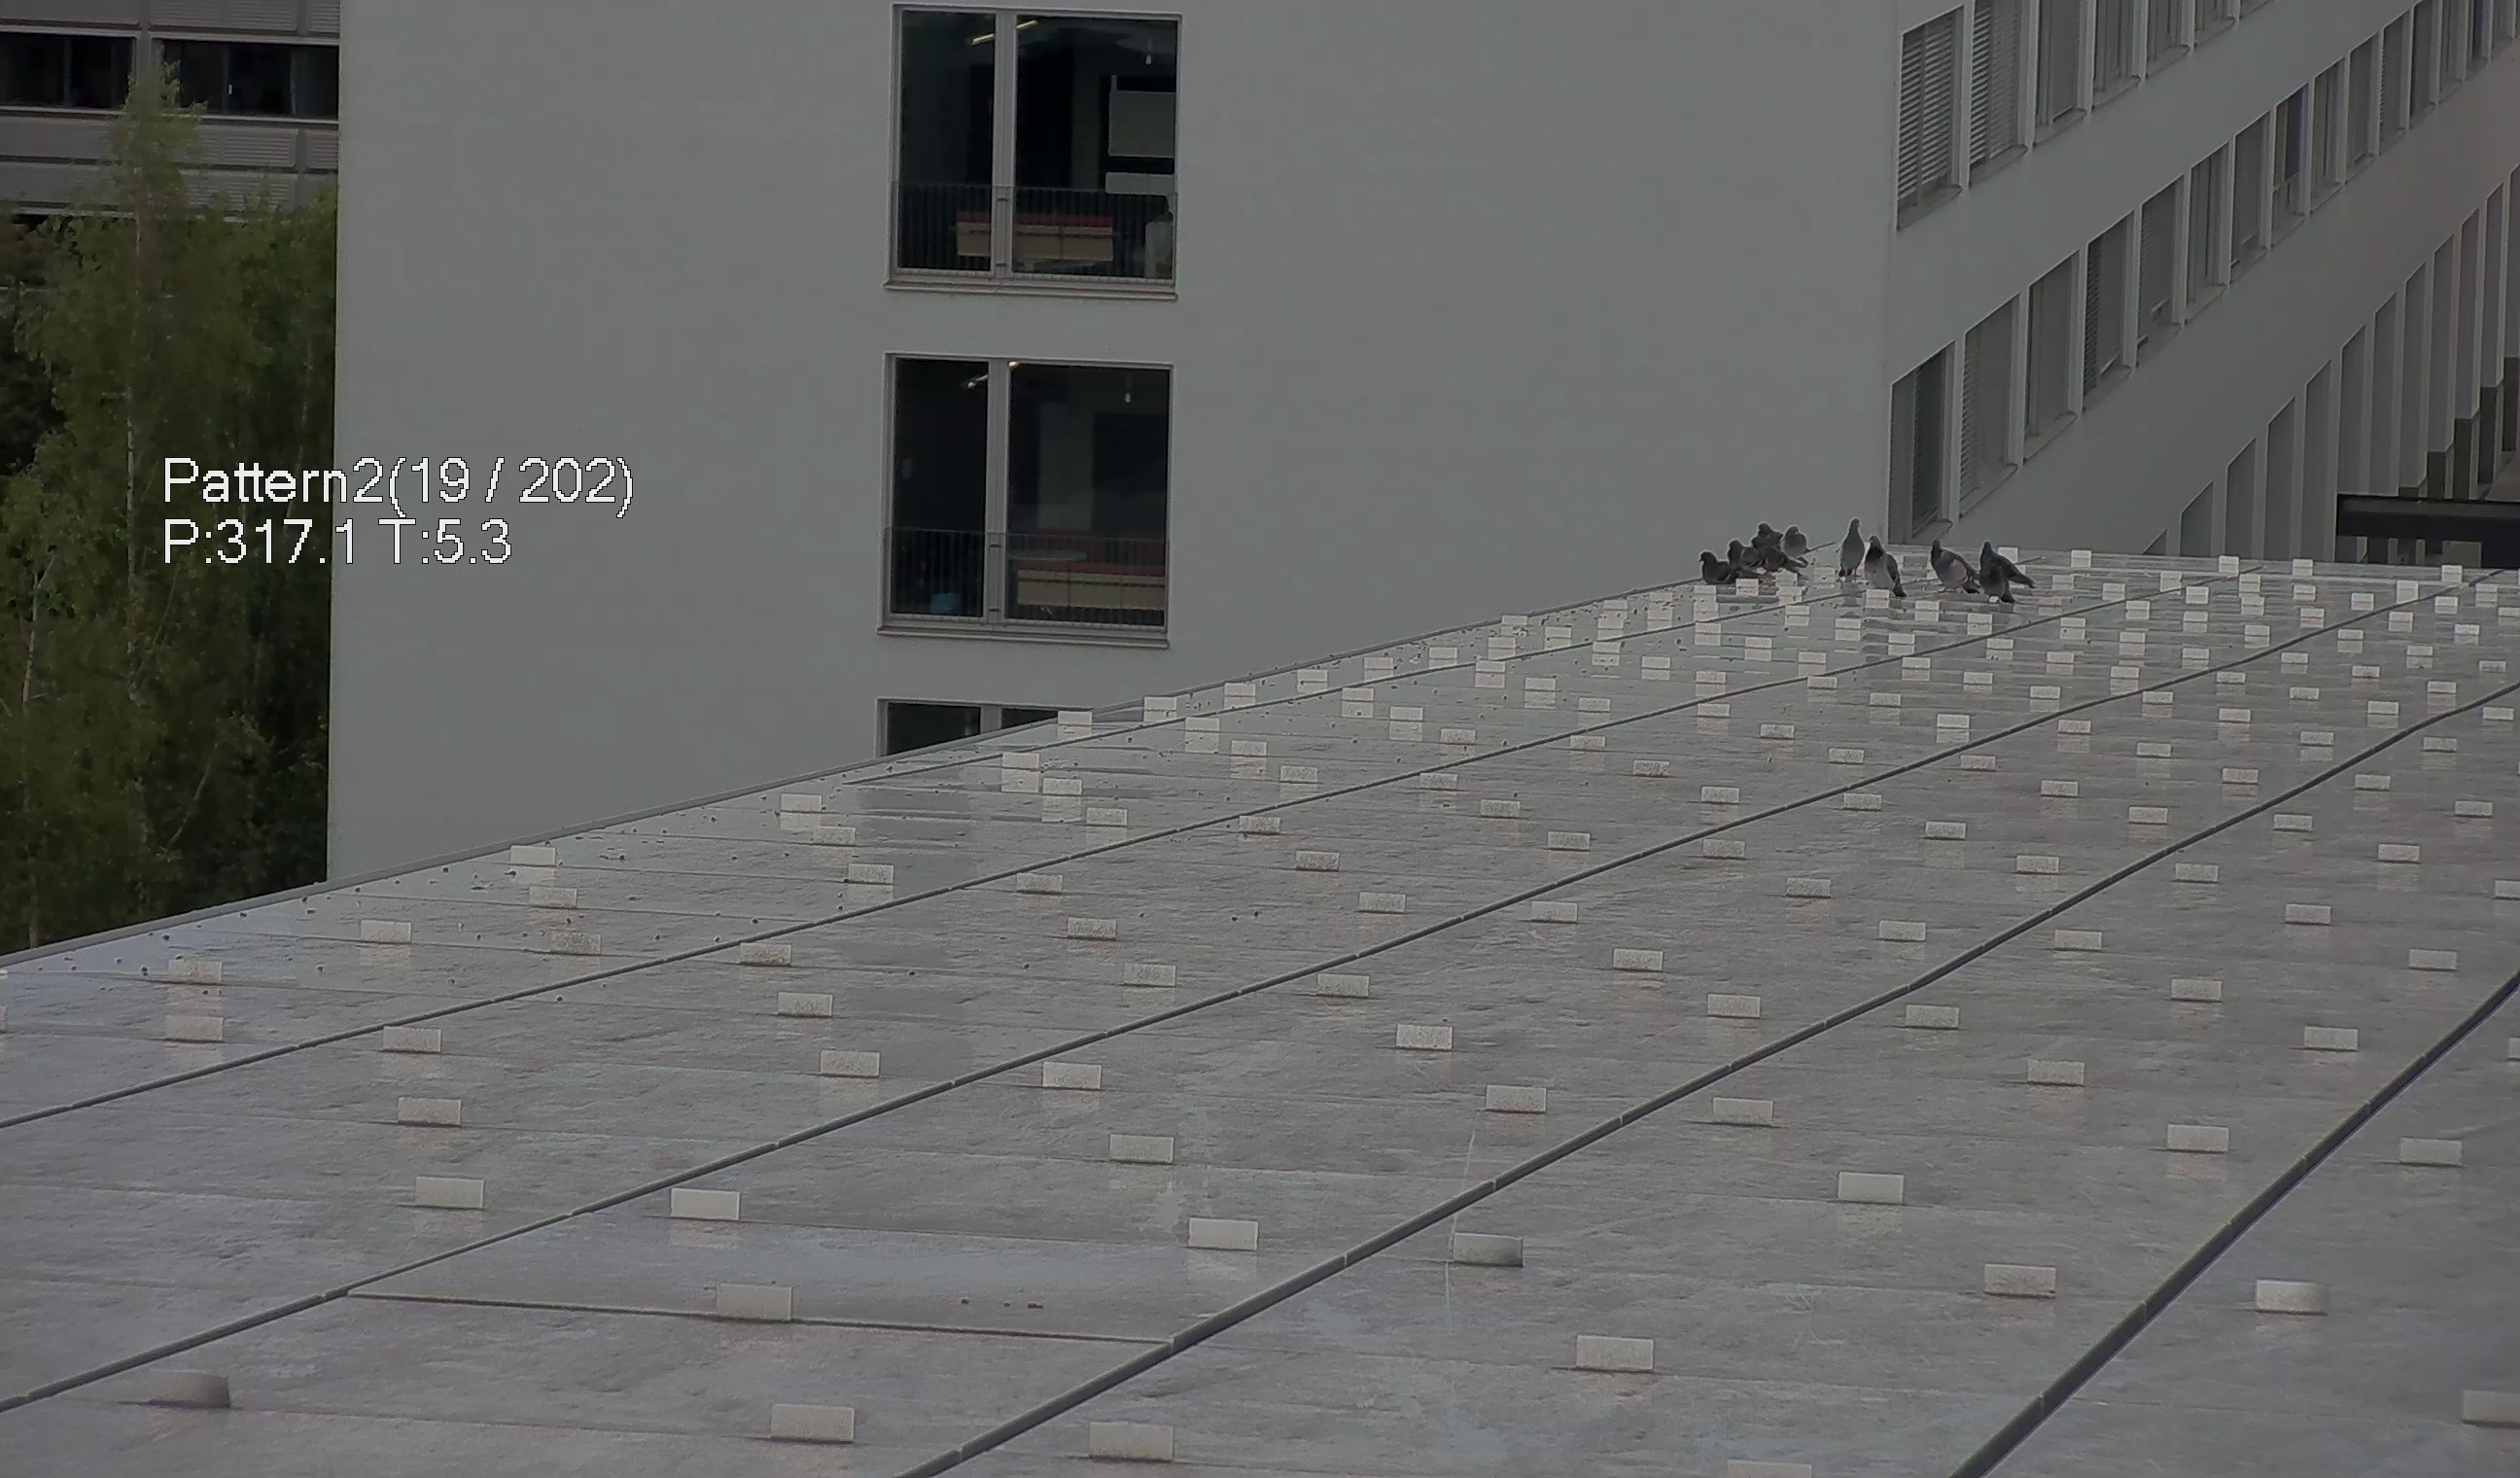Pigeon: (1862, 530, 1912, 609), (1929, 537, 1978, 602), (1695, 551, 1759, 584), (1832, 516, 1864, 581), (1971, 558, 2008, 611), (1752, 542, 1808, 575), (1780, 523, 1810, 558), (1753, 516, 1781, 549), (1977, 537, 2003, 567), (1725, 537, 1744, 568)
